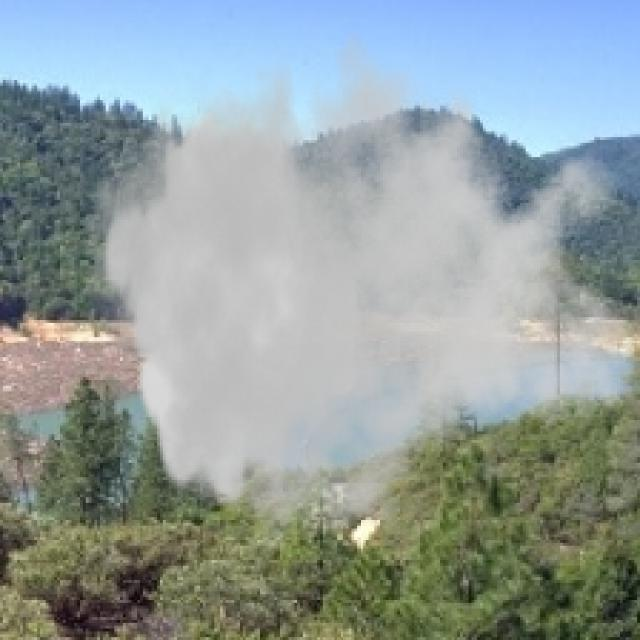Smoke: (82, 3, 638, 563)
